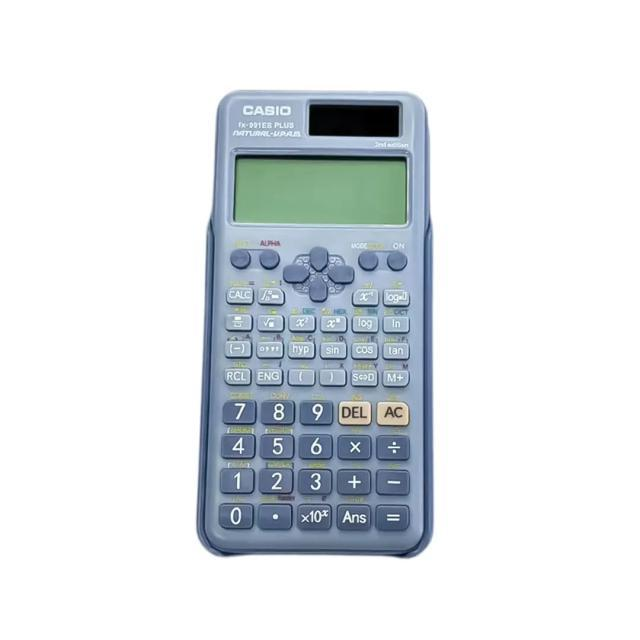Calculator: (182, 83, 441, 572)
